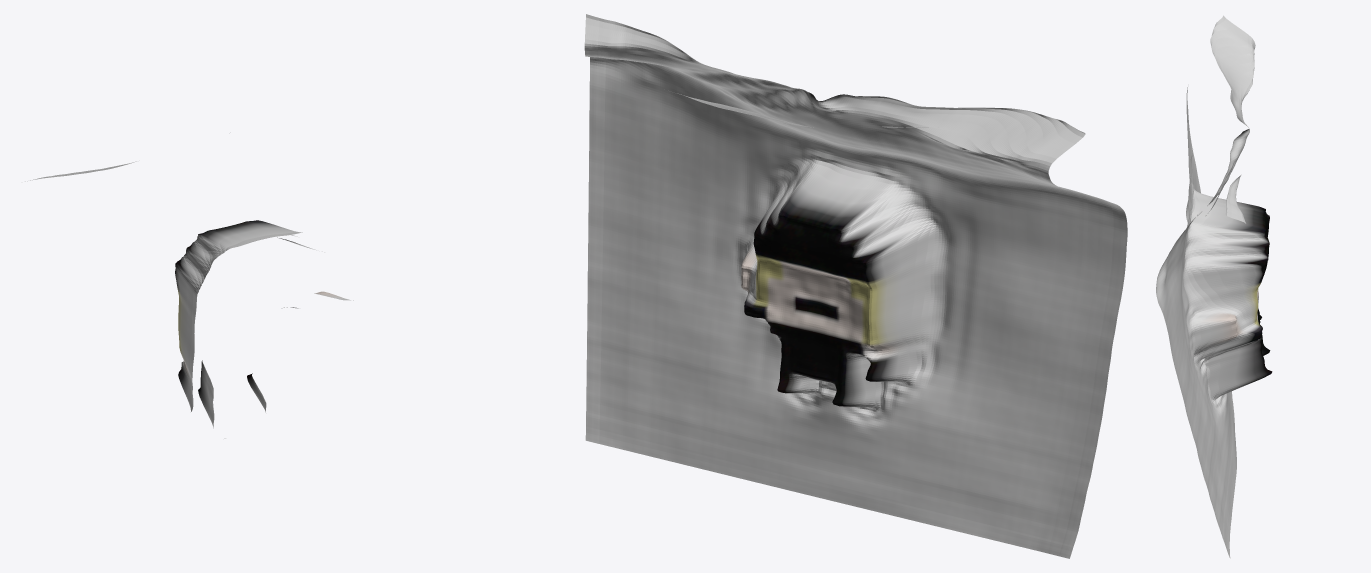
The model's file is tmpt1ry0m5_.glb.
The picture shows the model from 3 angles, left to right: view 1: azimuth 30°, elevation 25°; view 2: azimuth 150°, elevation 25°; view 3: azimuth 270°, elevation 25°; orthographic projection. The views are drawn at different scales.
Parts seen in each view (by area): view 1: world; view 2: world; view 3: world.
Part boxes in pixels (box(x1,y1,x2,y2)): world: box(25, 161, 353, 438); world: box(584, 14, 1127, 558); world: box(1156, 15, 1272, 558).
Bounding box in the file's own units: 2.36 × 1.83 × 0.9061.
